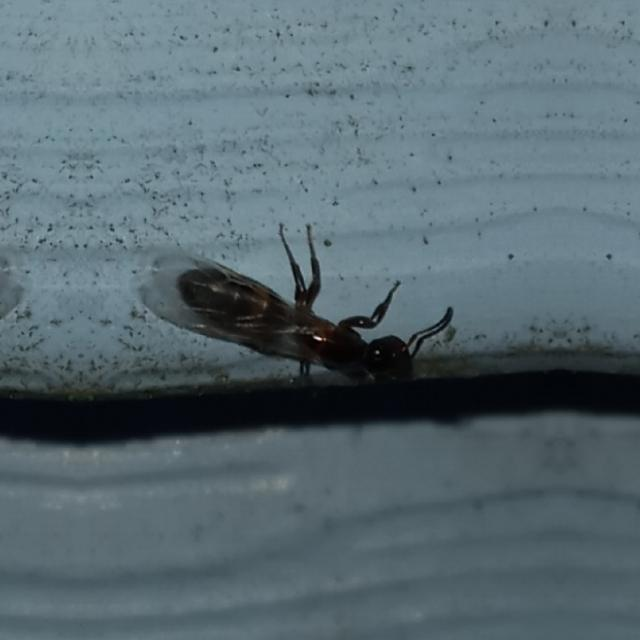Colobopsis: (162, 231, 452, 433)
